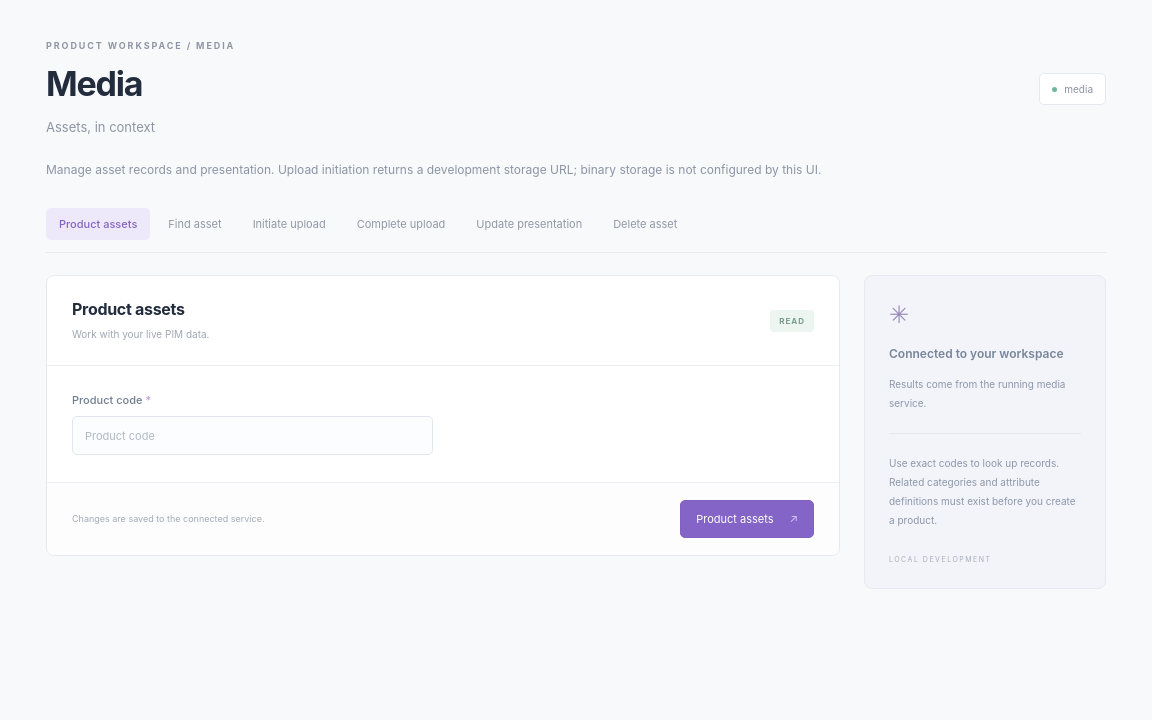
Test: Live workspace forms › requires explicit deletion confirmation
Click the tab "Delete asset" at (645, 224), box x1=600 y1=208 x2=690 y2=240
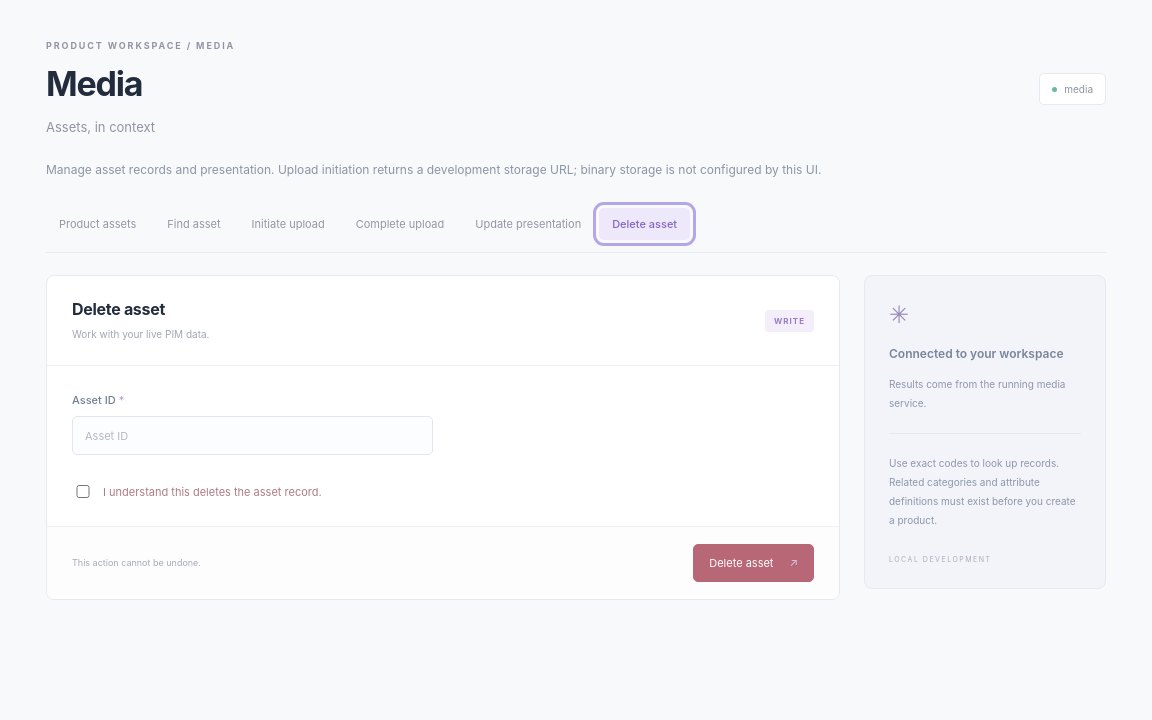
Type "test-asset" into the field labelled "Asset ID *" at (252, 436), box x1=72 y1=416 x2=433 y2=455
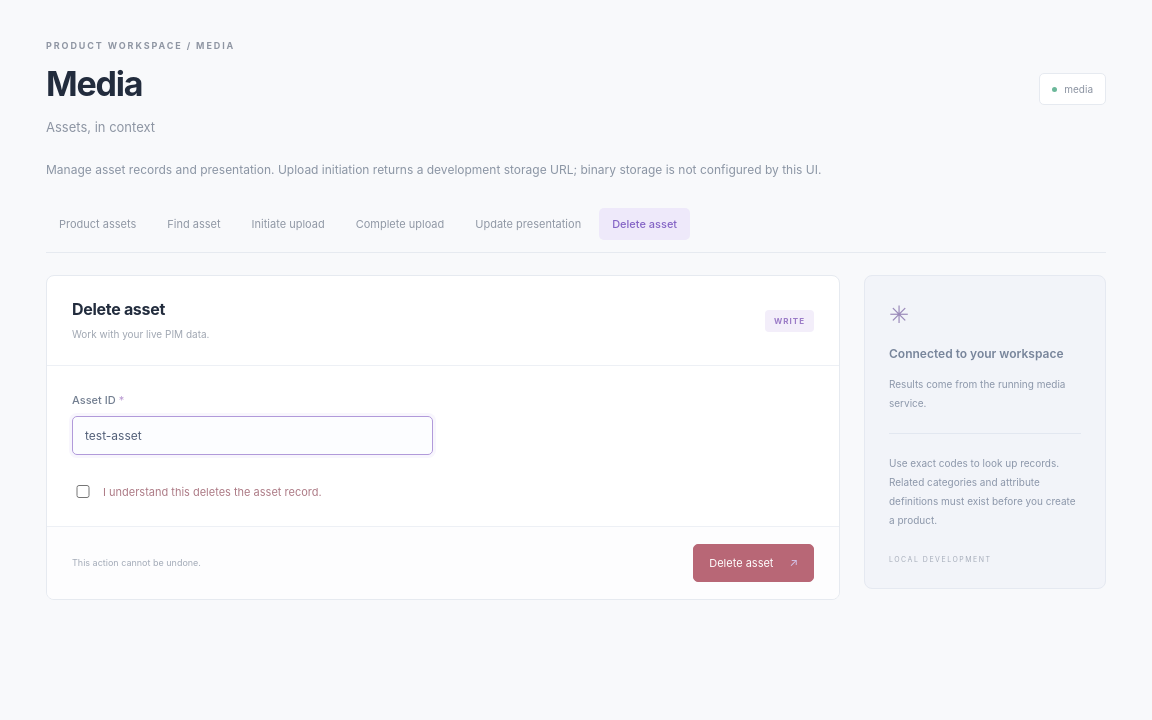
Click the button "Delete asset ↗" at (754, 563), box x1=693 y1=544 x2=814 y2=582
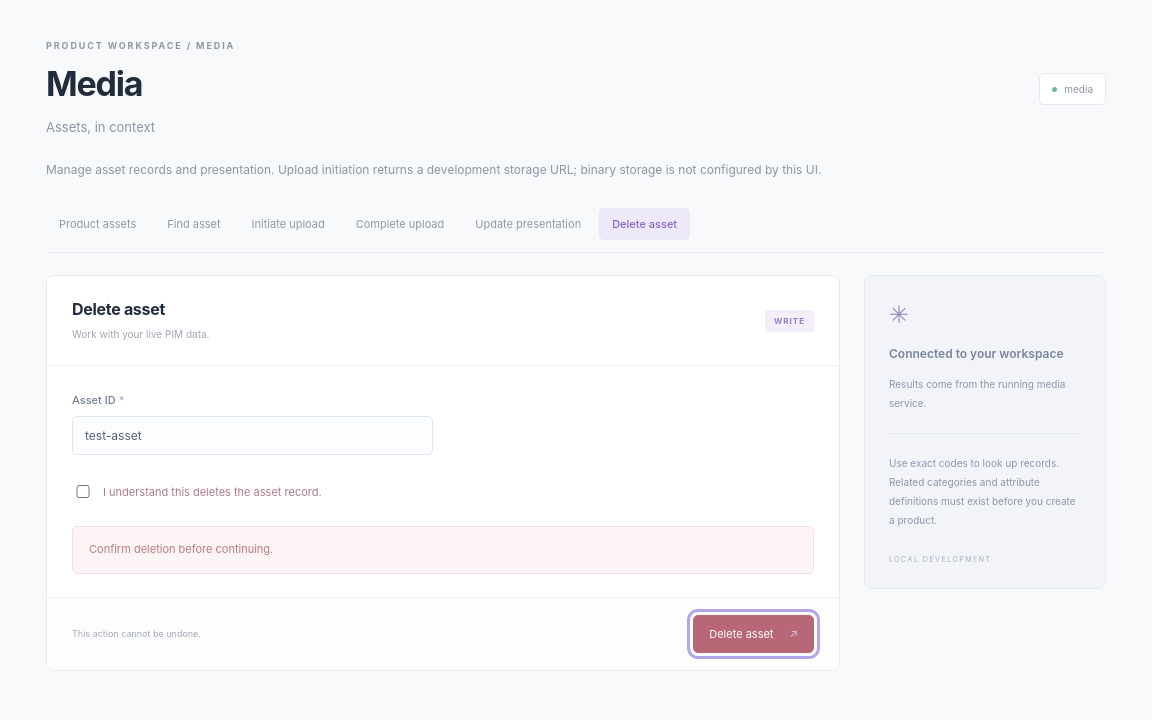
Check: the message shows "Confirm deletion", box x1=89 y1=542 x2=273 y2=556
Click the checkbox at (83, 492), box x1=76 y1=485 x2=90 y2=498
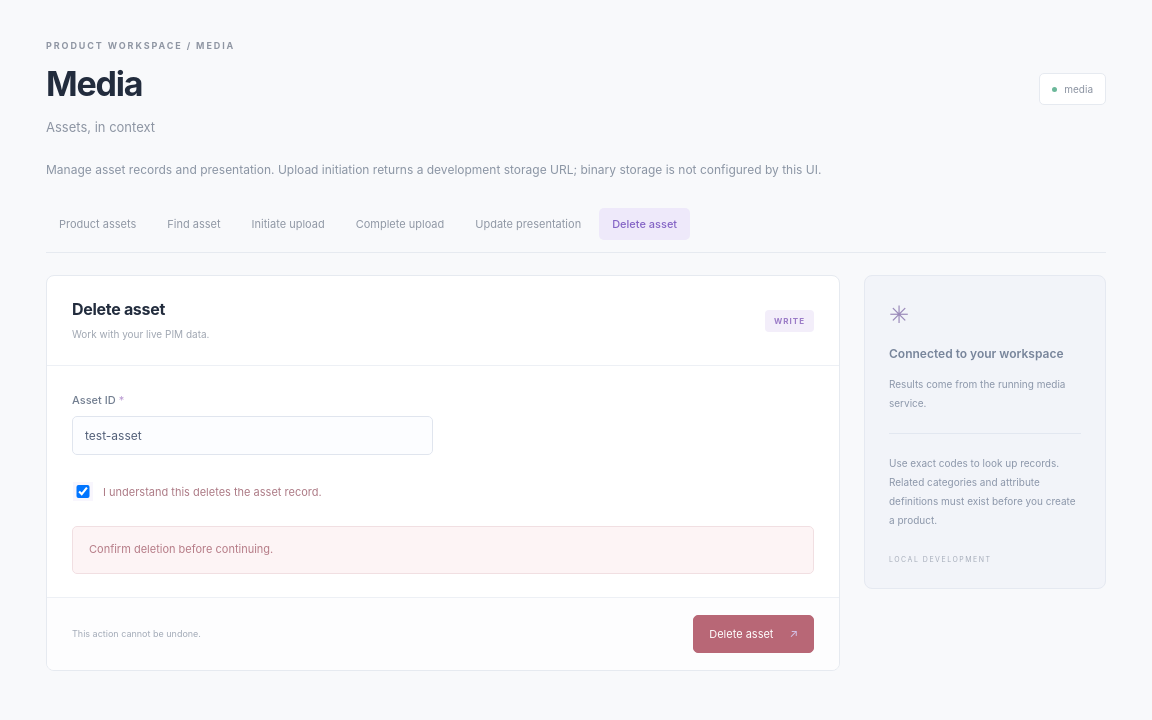
Click the button "Delete asset ↗" at (754, 634), box x1=693 y1=615 x2=814 y2=653
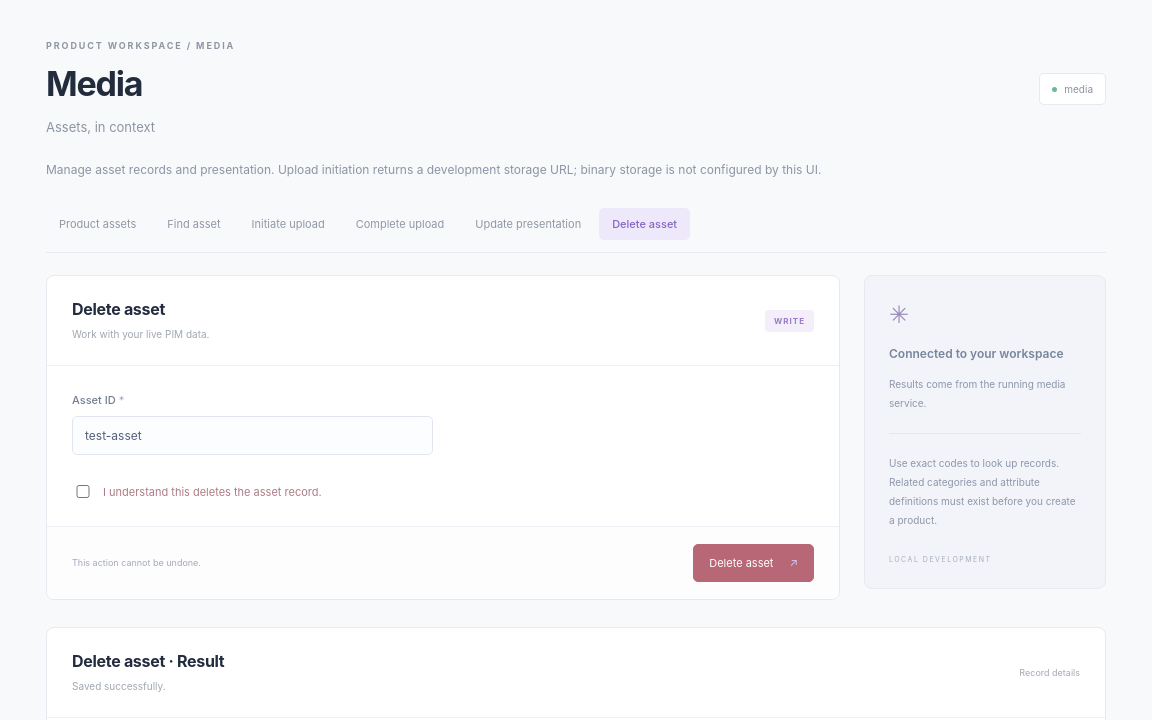
Check: the text "Saved successfully." is shown, box x1=72 y1=680 x2=166 y2=692
